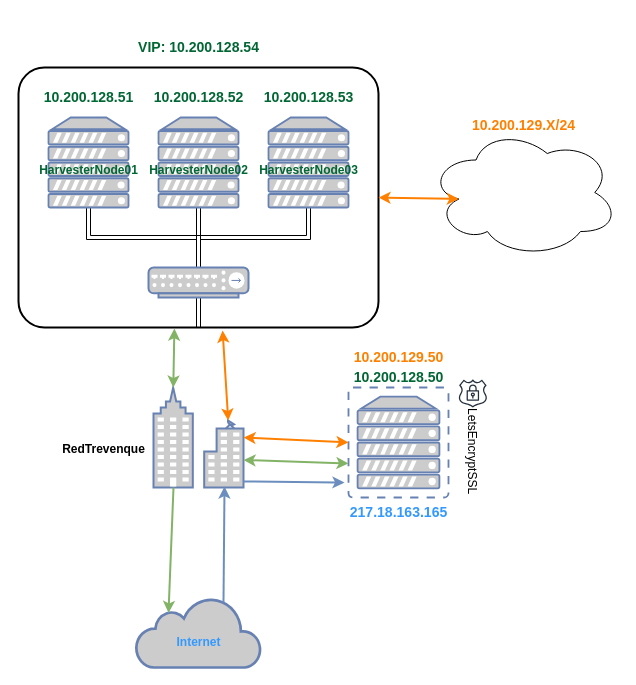
The diagram is 636 pixels wide and 685 high, and some of its shapes have lost their labels. The shapes that lost their labels are listed below. From the top down, each one's centre as x and y in pixels, then its label:
At (x=523, y=192): "Virtual Machines".
At (x=398, y=442): "Rancher".
